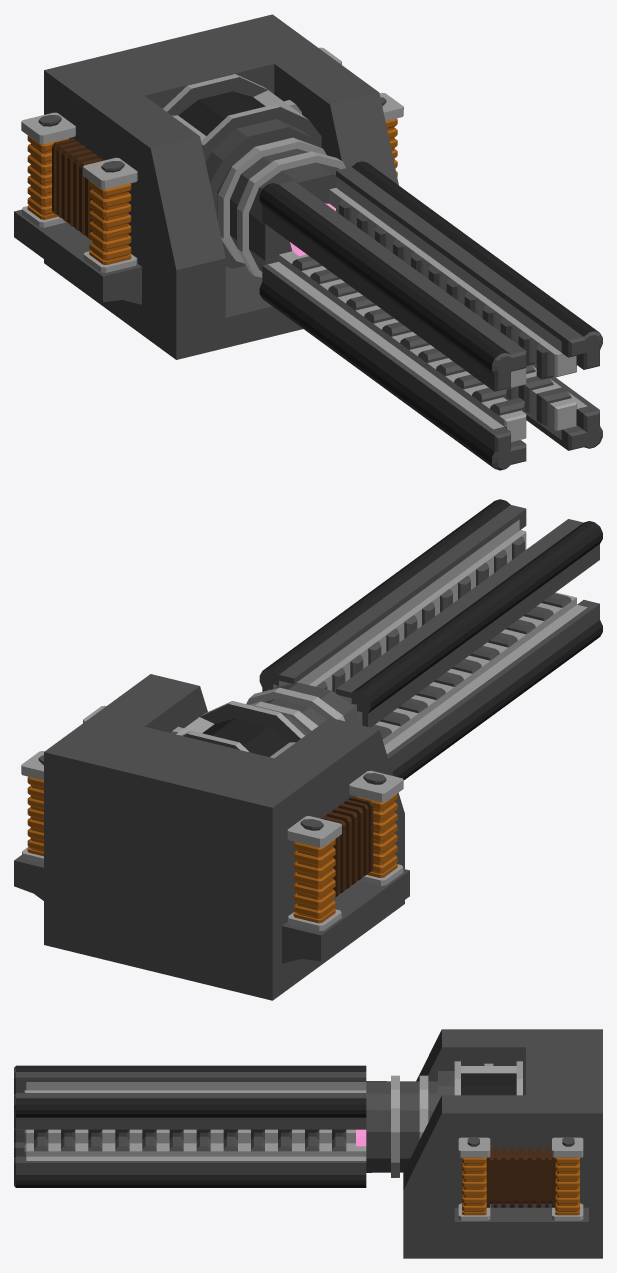
Rendered from RailgunHead.fbx.
The picture shows the model from 3 angles, top to bottom: view 1: azimuth 30°, elevation 25°; view 2: azimuth 150°, elevation 25°; view 3: azimuth 270°, elevation 25°; orthographic projection. The views are drawn at different scales.
Visible parts, largest first — view 1: RailgunHead; view 2: RailgunHead; view 3: RailgunHead.
Part boxes in pixels (bbox=[...]): RailgunHead: bbox=[14, 14, 602, 470]; RailgunHead: bbox=[14, 499, 602, 1000]; RailgunHead: bbox=[14, 1029, 602, 1258].
Size of the model in its own units: 269 by 162 by 591.
